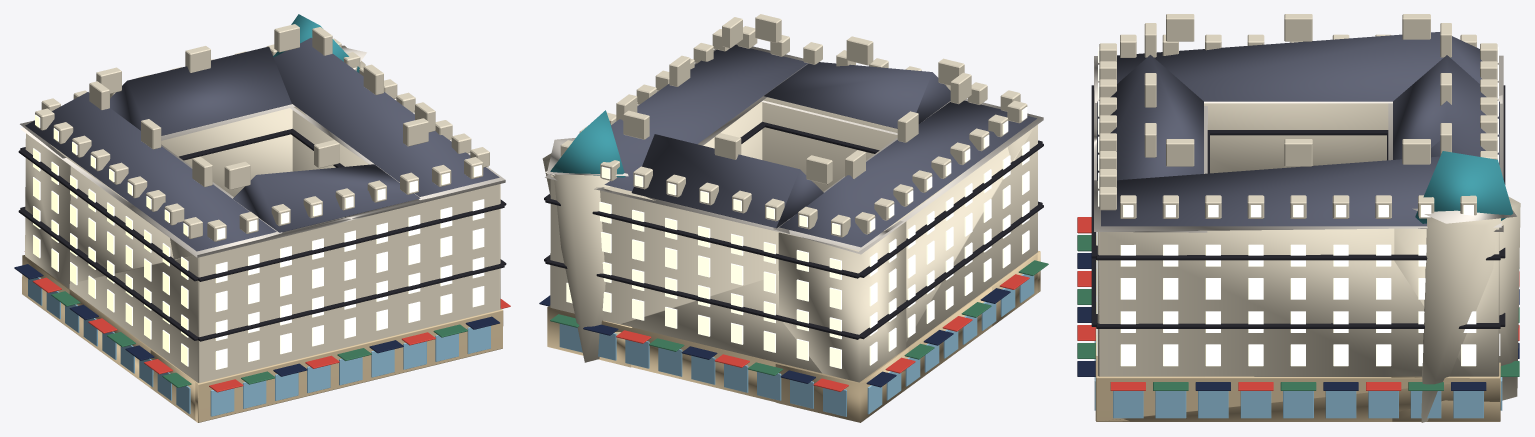
File: city_block.glb
The picture shows the model from 3 angles, left to right: view 1: azimuth 30°, elevation 25°; view 2: azimuth 150°, elevation 25°; view 3: azimuth 270°, elevation 25°; orthographic projection. The views are drawn at different scales.
Visible parts, largest first — view 1: city_block; view 2: city_block; view 3: city_block.
Boxes of the visible parts, left/top/right/bottom form: city_block: left=14, top=14, right=510, bottom=422; city_block: left=539, top=14, right=1048, bottom=422; city_block: left=1077, top=14, right=1520, bottom=422.
Size of the model in its own units: 37.67 by 24.1 by 37.49.
Materials: 1 (1 with a texture image).
